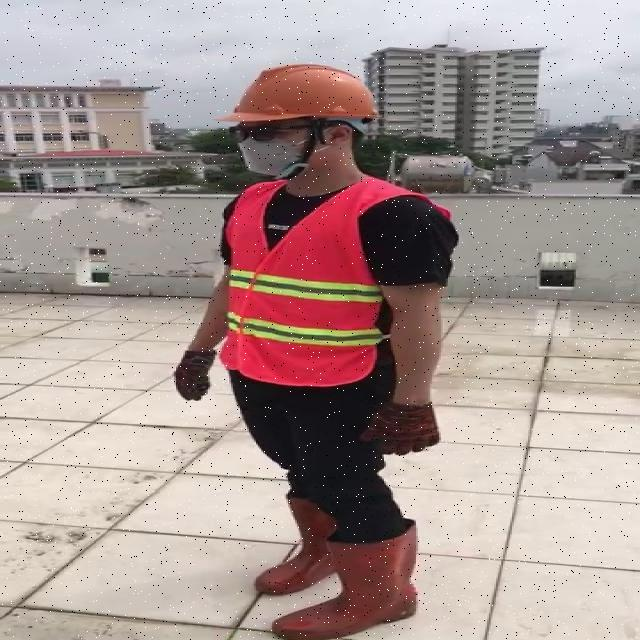Hard_hat: (217, 59, 385, 139)
Vest: (225, 178, 387, 387)
